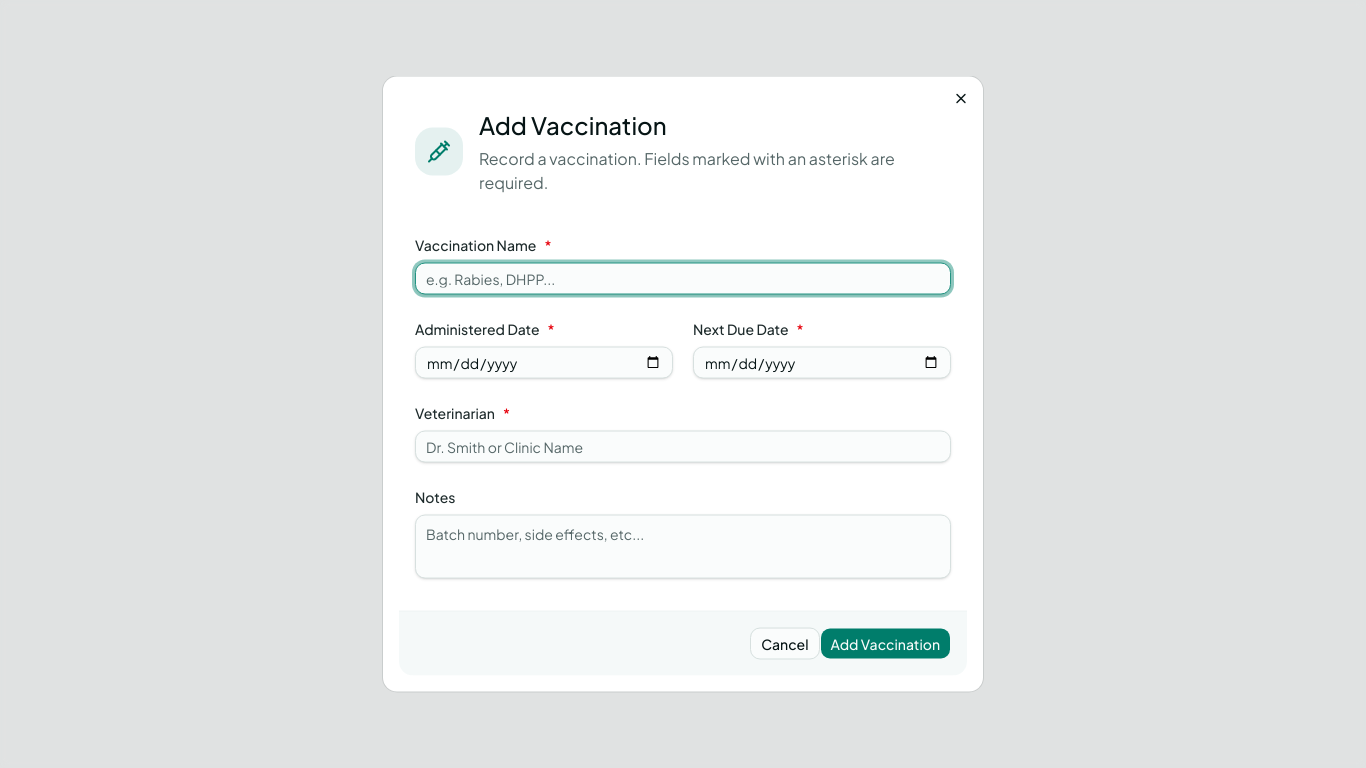
VaccinationFormDialog › shows validation errors and does not submit when required fields are empty
Click the button "Add Vaccination" at (885, 644), box [820, 628, 951, 660]
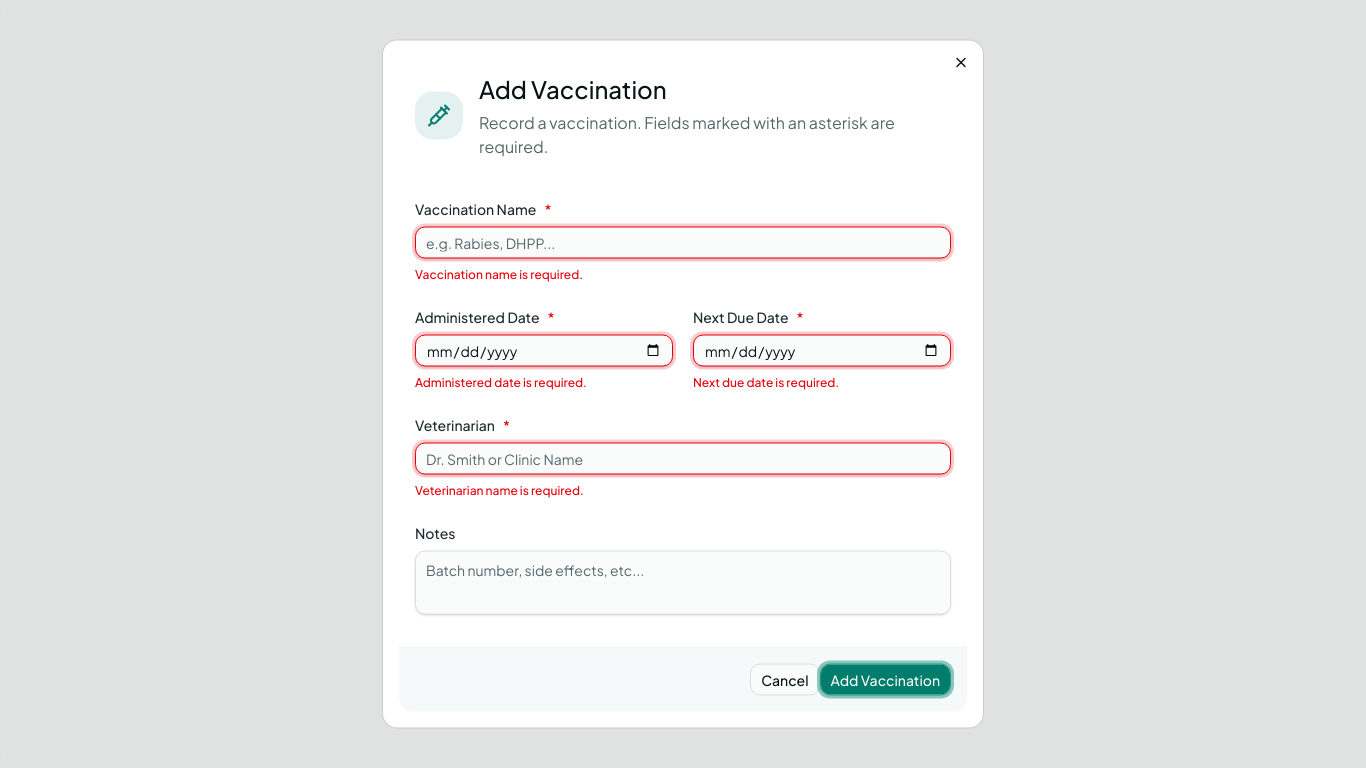
Now the text "Vaccination name is required." is shown, box [415, 266, 583, 282]
